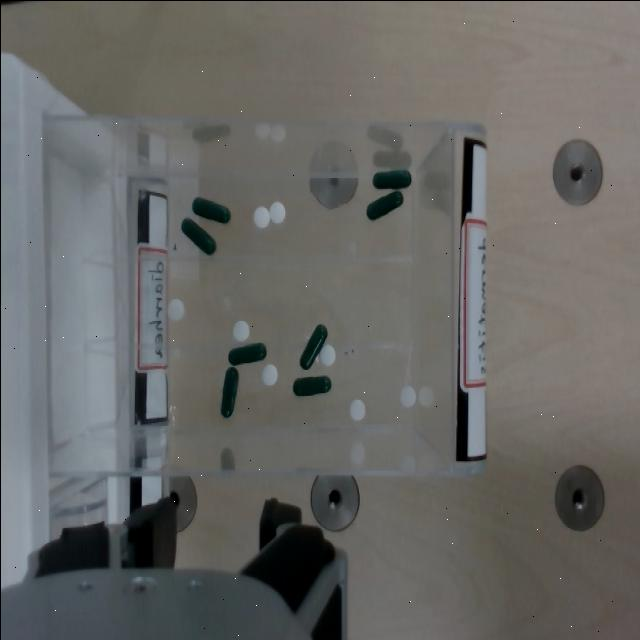ganakan_tab: (231, 317, 250, 341), (251, 204, 270, 228), (268, 199, 285, 225), (318, 342, 335, 367), (260, 363, 277, 386), (166, 296, 183, 319), (348, 399, 364, 421), (399, 385, 415, 406)
monodoxy_cap: (297, 322, 327, 369), (180, 216, 216, 254), (181, 217, 216, 253), (364, 188, 402, 220), (300, 323, 327, 368), (191, 195, 231, 223), (219, 364, 239, 418), (366, 191, 403, 219), (192, 196, 230, 222), (226, 340, 265, 365), (291, 373, 331, 396), (371, 167, 411, 189), (228, 342, 266, 365), (221, 365, 238, 415), (292, 374, 330, 395), (372, 169, 411, 188)
